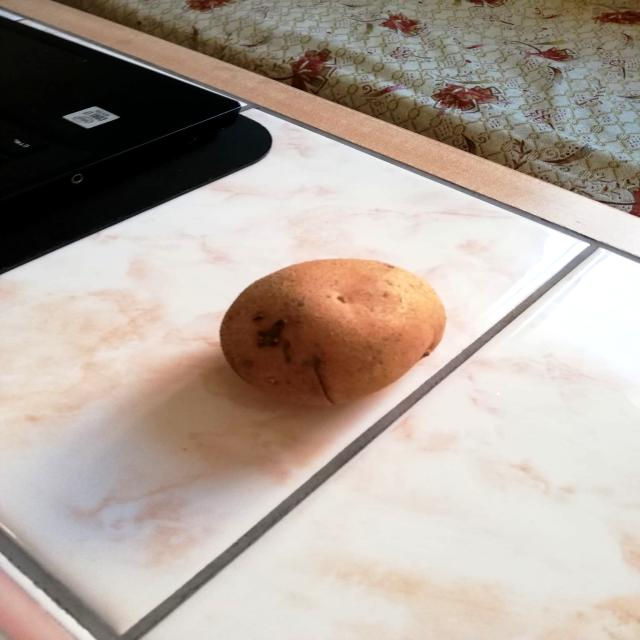potato: (214, 242, 457, 413)
